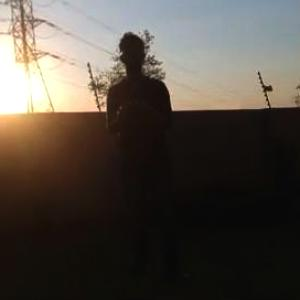follow: (105, 26, 194, 284)
